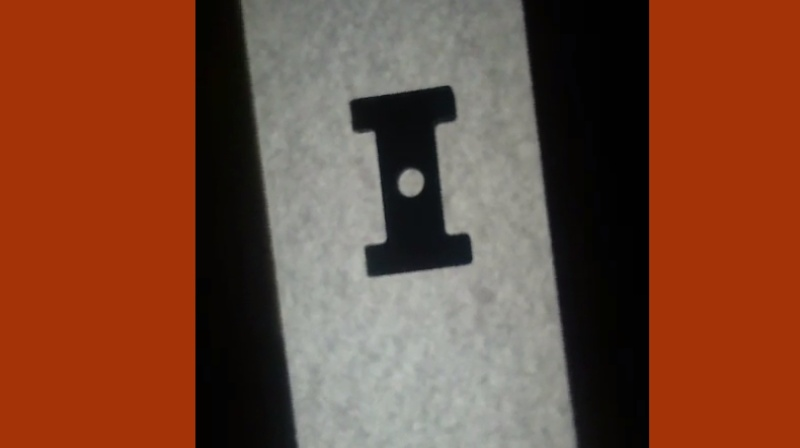O002: (345, 82, 474, 282)
